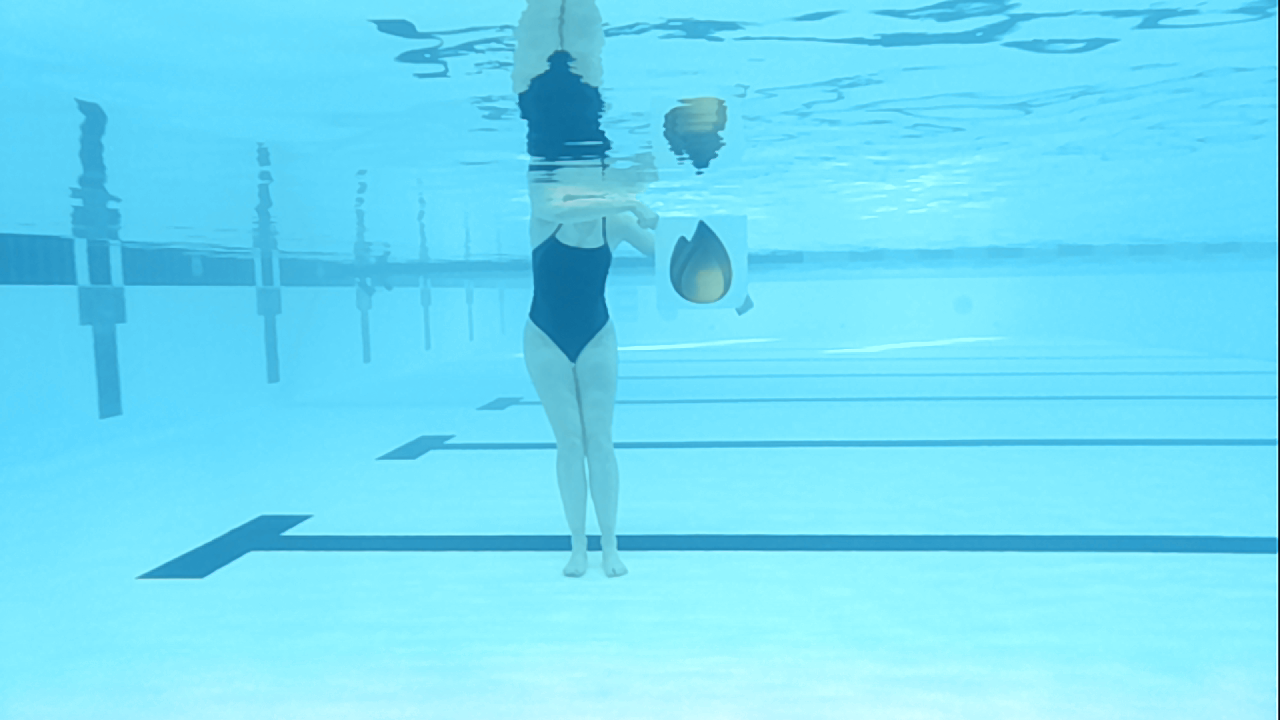fire: (655, 216, 748, 308)
